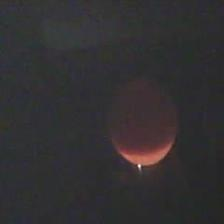fertile: (101, 71, 182, 170)
